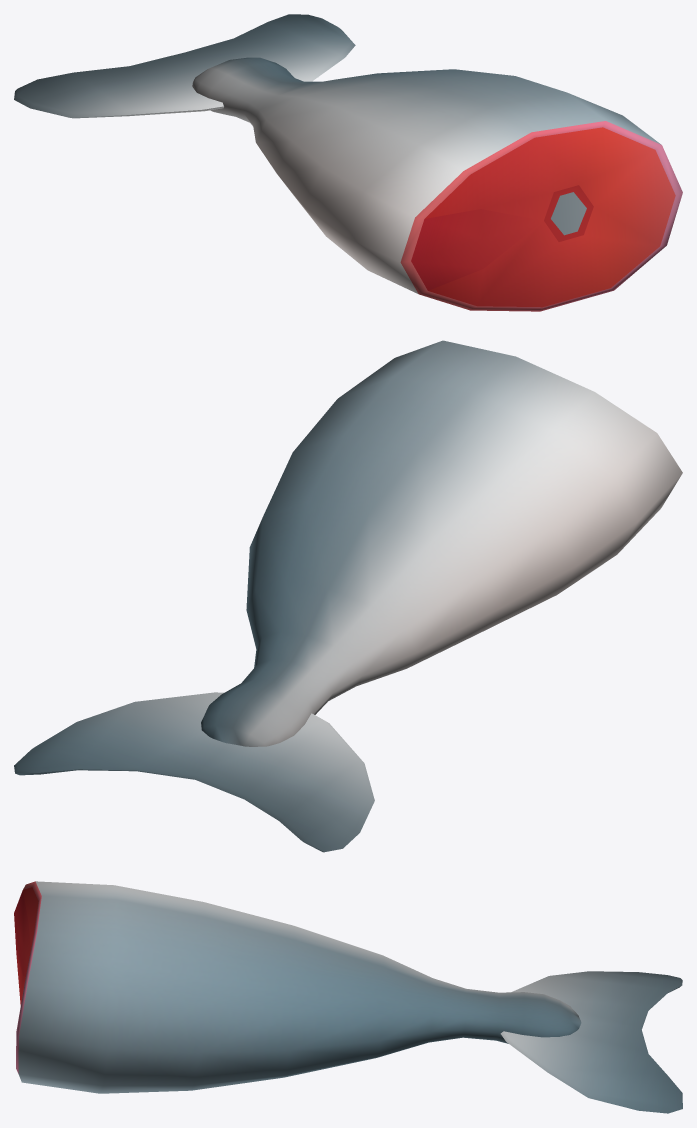
Rendered from fish_002.fbx.
The picture shows the model from 3 angles, top to bottom: view 1: azimuth 30°, elevation 25°; view 2: azimuth 150°, elevation 25°; view 3: azimuth 270°, elevation 25°; orthographic projection. The views are drawn at different scales.
Visible parts, largest first — view 1: fish_002; view 2: fish_002; view 3: fish_002.
Boxes of the visible parts, x1,y1,x2,y2 form: fish_002: (14, 14, 682, 311); fish_002: (14, 340, 682, 852); fish_002: (14, 881, 682, 1113).
Bounding box in the file's own units: 13.55 × 26.25 × 7.28.
